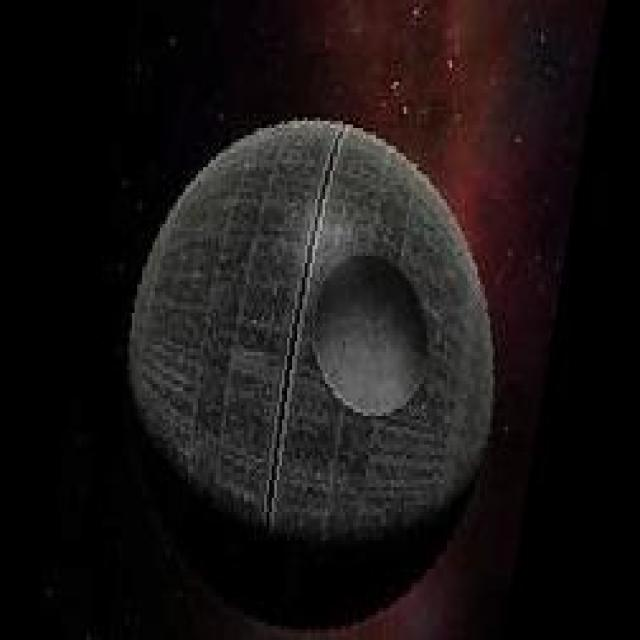Death Star: (120, 110, 500, 558)
